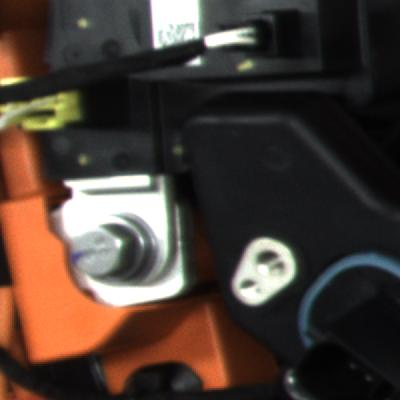nut_b: (66, 207, 162, 299)
